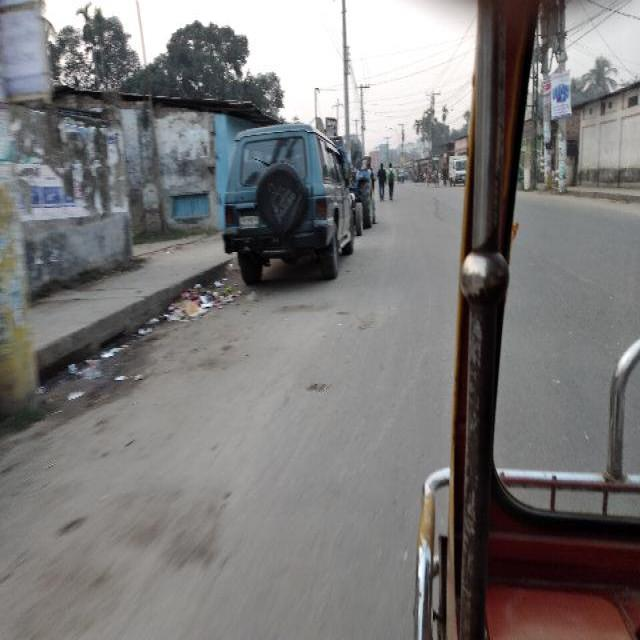vehicle: (225, 120, 358, 287), (447, 155, 469, 188), (427, 164, 441, 188), (415, 166, 425, 186), (397, 167, 407, 184)
